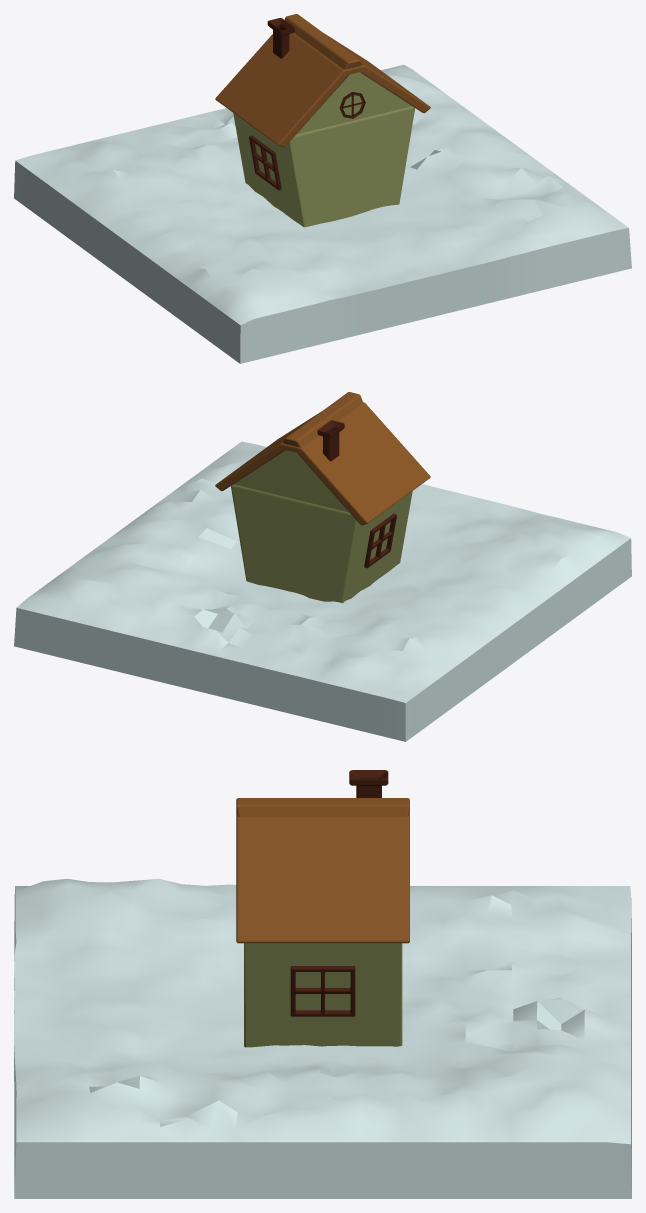
File: SnowyHouse.glb
3 renders of one model, top to bottom at view 1: azimuth 30°, elevation 25°; view 2: azimuth 150°, elevation 25°; view 3: azimuth 270°, elevation 25°, orthographic. The views are drawn at different scales.
Visible parts, largest first — view 1: Plane, House, Roof, Window, Tube; view 2: Plane, House, Roof, Window, Tube; view 3: Plane, Roof, House, Window.001, Tube.
Part boxes in pixels (x1,y1,x2,y2): Plane: (14, 64, 631, 363); House: (233, 72, 414, 227); Roof: (215, 14, 430, 147); Window: (249, 135, 281, 190); Tube: (267, 18, 294, 58); Plane: (14, 441, 631, 741); House: (231, 450, 412, 603); Roof: (215, 392, 430, 525); Window: (364, 513, 396, 568); Tube: (317, 420, 344, 461); Plane: (14, 878, 631, 1198); Roof: (236, 798, 409, 943); House: (244, 943, 402, 1047); Window.001: (290, 966, 355, 1016); Tube: (349, 770, 388, 797).
Size of the model in its own units: 6 by 2.97 by 6.
